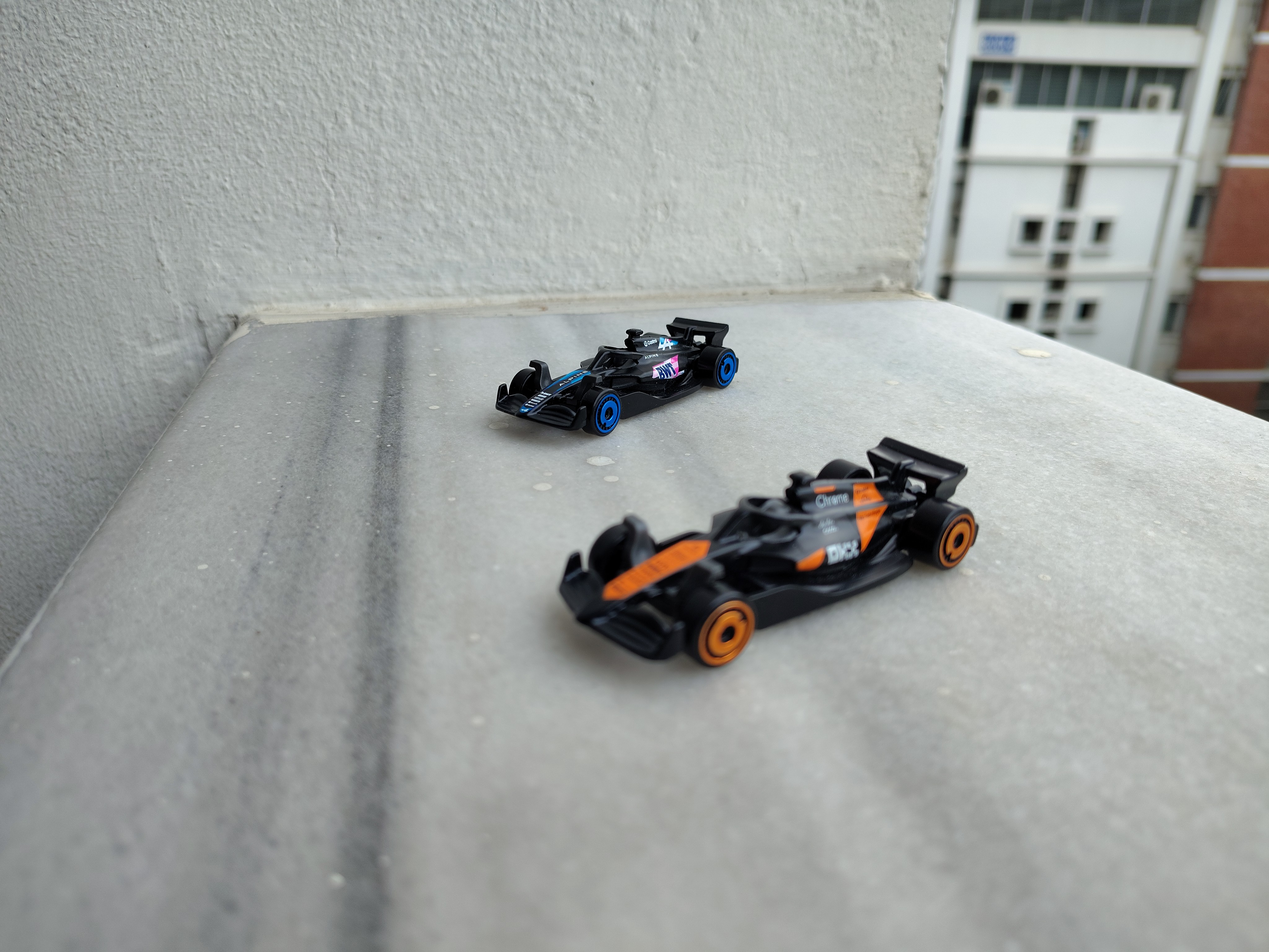Alpine A524: (398, 220, 810, 445)
McLaren MCL40: (513, 451, 1015, 626)
